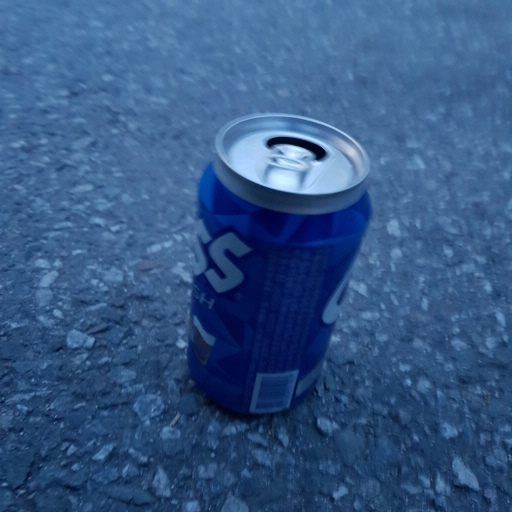Metal_0: (174, 111, 374, 418)
